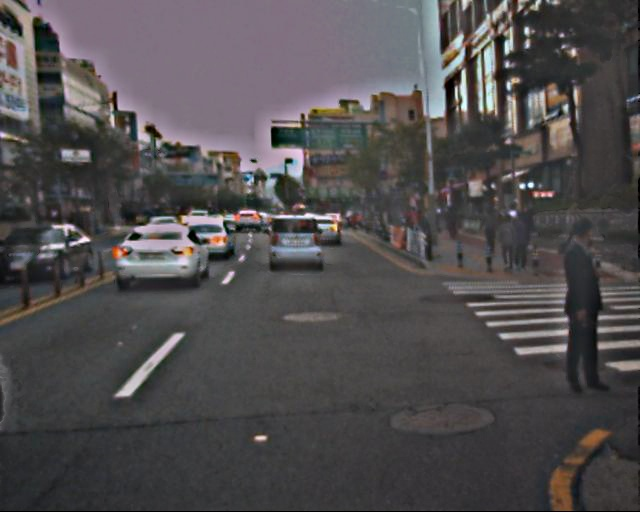person: (538, 217, 612, 398), (492, 210, 517, 272), (478, 203, 501, 258), (508, 215, 530, 269), (502, 204, 523, 255), (520, 205, 541, 255), (445, 206, 459, 241)
